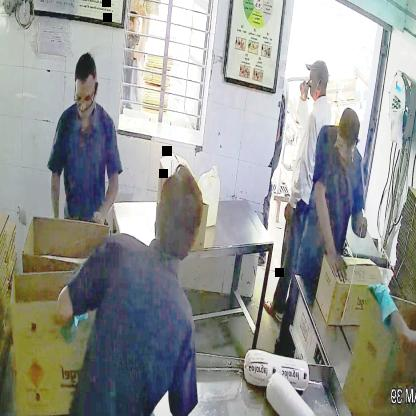goggles: (70, 81, 100, 111)
